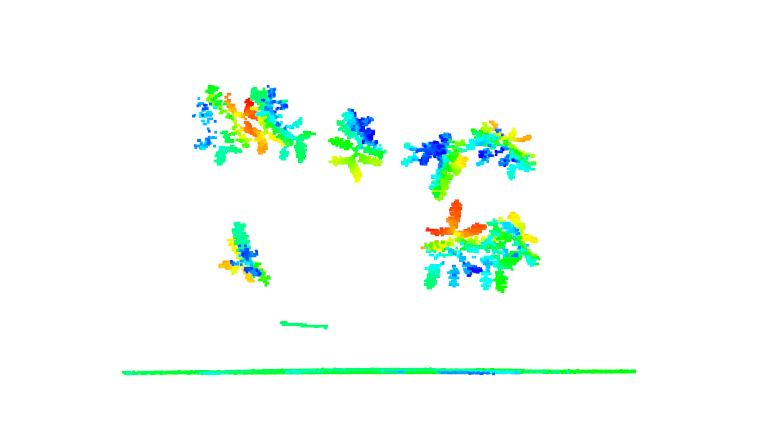chickpea: (420, 198, 488, 290), (246, 83, 318, 164), (479, 210, 542, 294), (399, 130, 469, 201), (193, 82, 251, 165), (326, 108, 390, 182), (213, 220, 276, 290), (469, 119, 539, 181)
